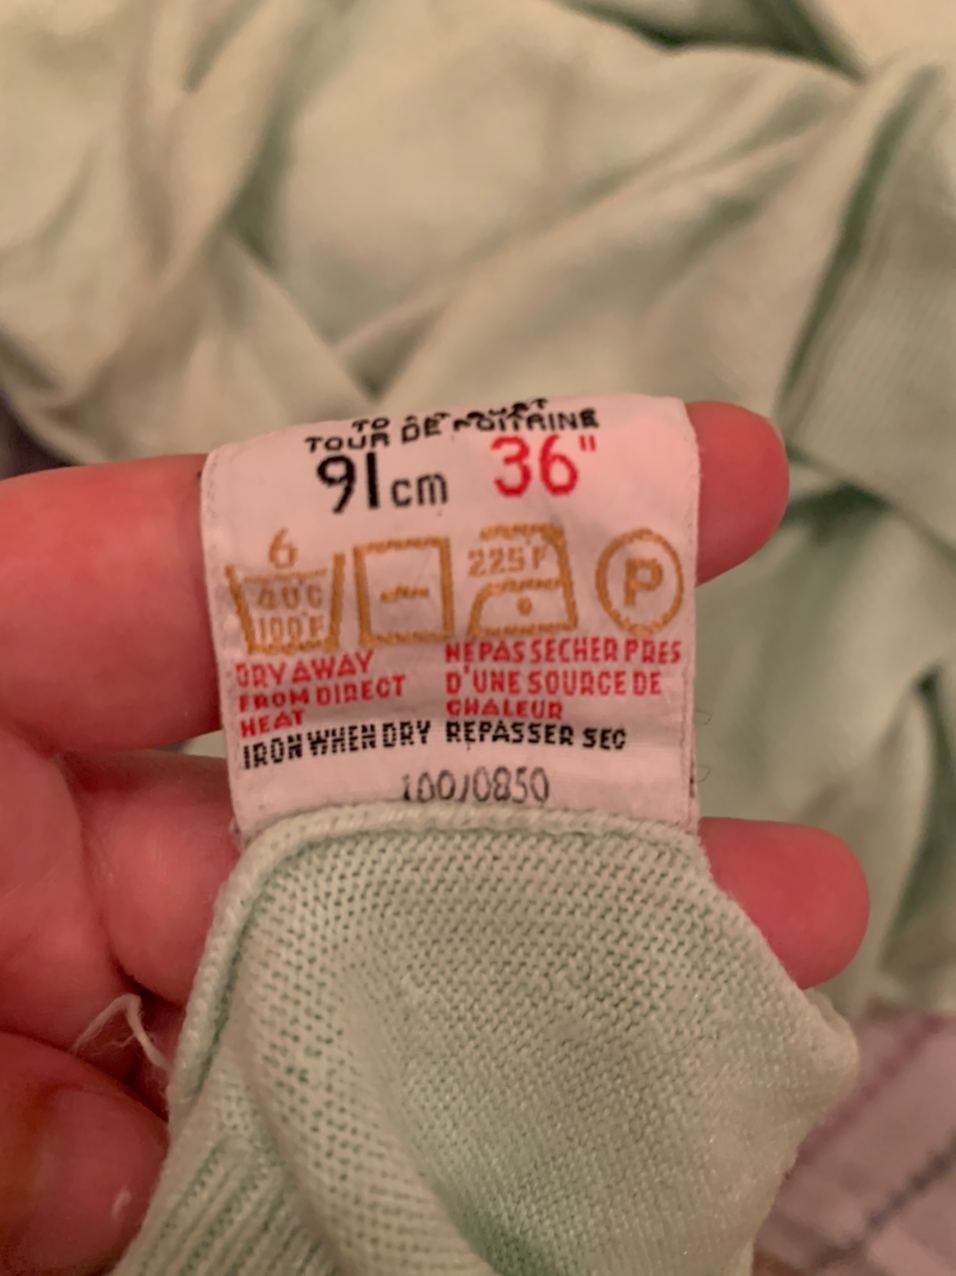dry_clean_tetrachloroethylene_pce_only: (592, 514, 688, 641)
dry_flat: (347, 528, 464, 649)
